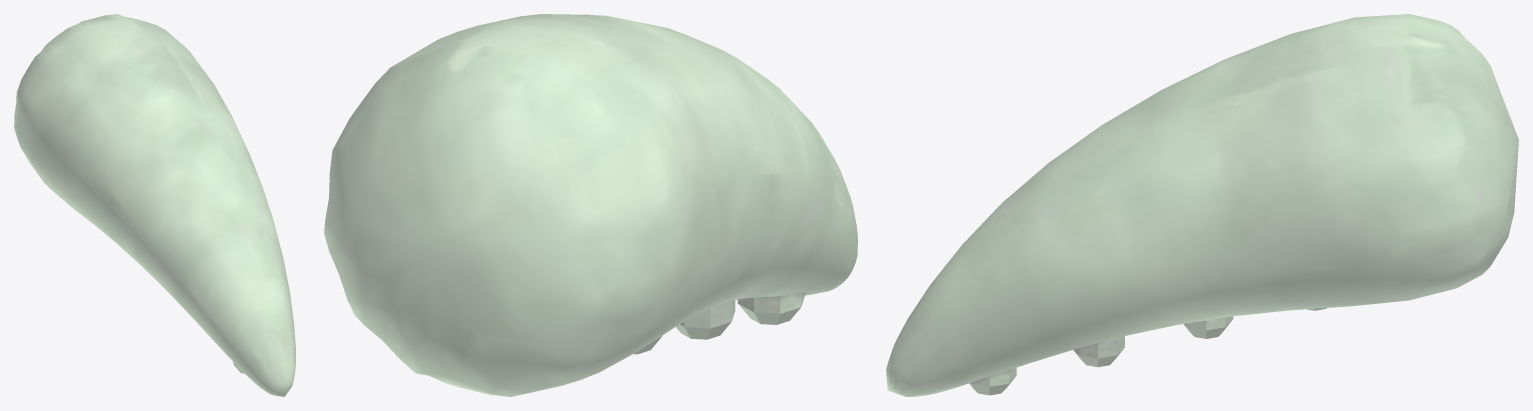
Rendered from weeper_tentacle.glb.
The picture shows the model from 3 angles, left to right: view 1: azimuth 30°, elevation 25°; view 2: azimuth 150°, elevation 25°; view 3: azimuth 270°, elevation 25°; orthographic projection. The views are drawn at different scales.
Parts seen in each view (by area): view 1: weeper_tentacle; view 2: weeper_tentacle; view 3: weeper_tentacle.
Part boxes in pixels (bbox=[...]): weeper_tentacle: bbox=[14, 14, 295, 396]; weeper_tentacle: bbox=[324, 14, 857, 396]; weeper_tentacle: bbox=[886, 14, 1518, 396].
Size of the model in its own units: 0.3549 by 0.4984 by 0.7795.
Materials: 1 (1 with a texture image).
